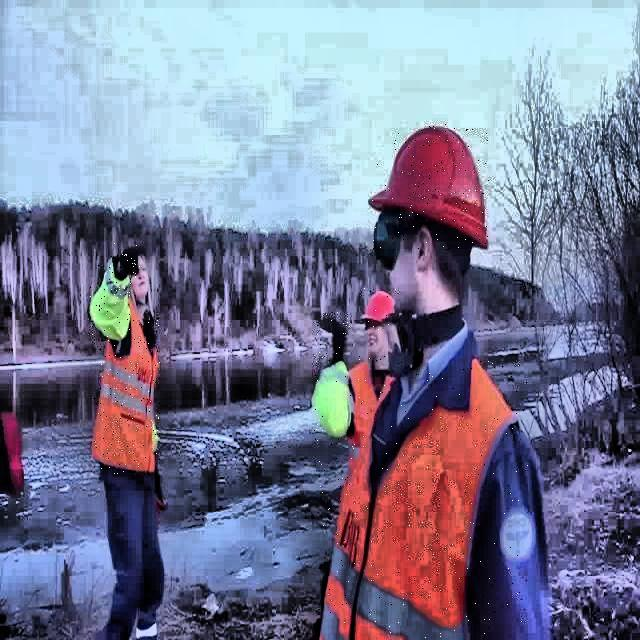safety_helmet: (372, 122, 490, 250), (360, 288, 396, 330)
safety_jacket: (318, 361, 528, 640), (94, 317, 160, 476), (346, 356, 388, 445), (314, 352, 352, 446), (90, 262, 132, 341)
